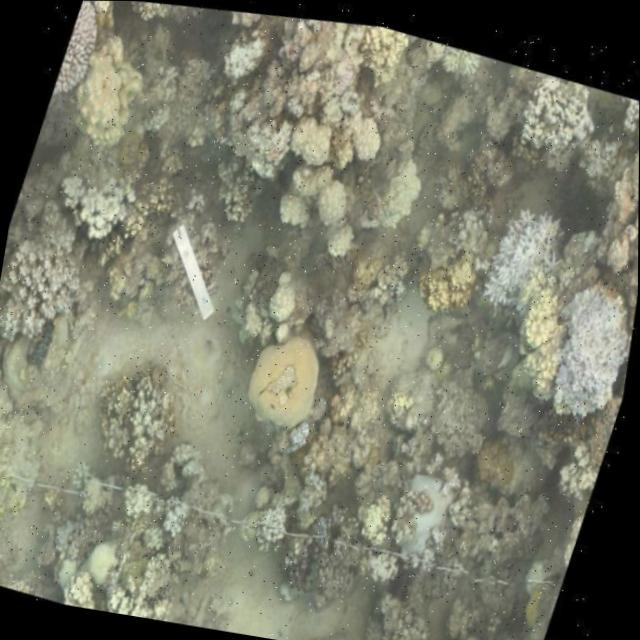Bleached Coral: (254, 68, 395, 253), (461, 184, 582, 339), (489, 56, 618, 180), (0, 211, 110, 356), (31, 132, 162, 249), (543, 276, 638, 423), (99, 534, 212, 627), (47, 0, 125, 123), (102, 361, 185, 472), (200, 9, 284, 102), (236, 479, 306, 557), (44, 541, 116, 611), (423, 34, 498, 92), (143, 479, 204, 550), (122, 1, 193, 46)
